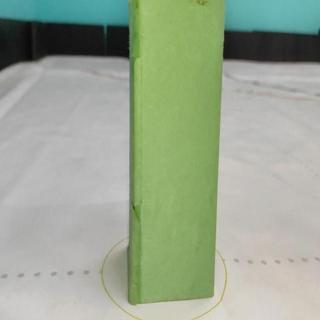greenbox: (127, 1, 228, 303)
